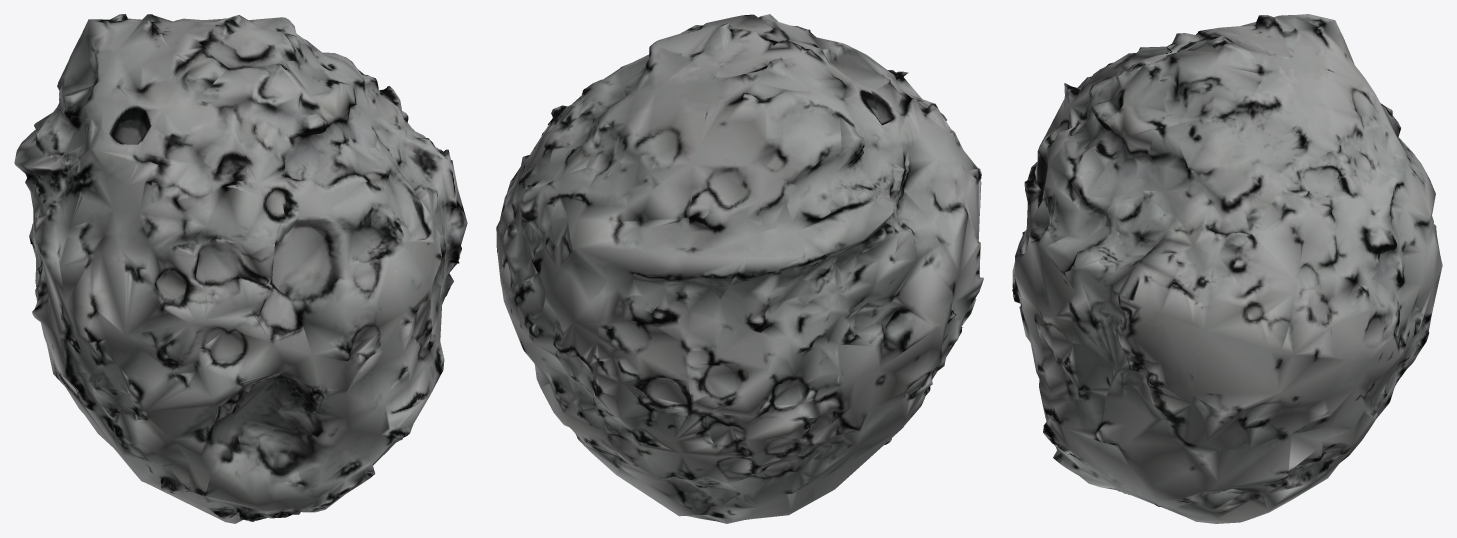
File: wild2-low.glb
The picture shows the model from 3 angles, left to right: view 1: azimuth 30°, elevation 25°; view 2: azimuth 150°, elevation 25°; view 3: azimuth 270°, elevation 25°; orthographic projection. The views are drawn at different scales.
Size of the model in its own units: 1.6 by 1.89 by 1.54.
Materials: 1 (1 with a texture image).
